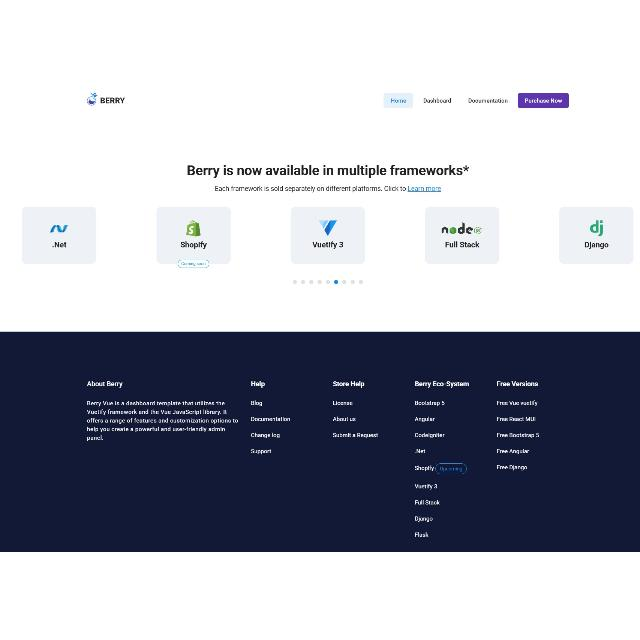QLabel: (85, 401, 238, 442), (186, 165, 470, 178), (214, 185, 406, 192), (413, 382, 469, 388), (332, 433, 378, 439), (444, 241, 478, 249), (496, 448, 530, 456), (496, 433, 540, 439), (312, 241, 344, 249), (333, 381, 365, 389), (496, 382, 538, 388), (496, 401, 538, 407), (468, 98, 508, 104), (496, 416, 536, 422), (407, 185, 441, 192), (525, 98, 563, 104), (180, 242, 207, 250), (86, 382, 122, 388), (584, 242, 608, 250), (414, 433, 446, 439), (495, 466, 527, 472), (414, 401, 444, 407), (423, 97, 451, 103), (252, 434, 280, 440), (251, 418, 291, 422), (414, 500, 440, 506), (100, 98, 124, 104), (414, 485, 438, 491), (250, 450, 272, 456), (332, 400, 352, 406), (414, 466, 434, 472), (390, 97, 408, 103), (414, 517, 432, 523), (51, 242, 67, 248), (181, 262, 205, 266), (413, 532, 429, 538), (333, 418, 355, 422), (440, 468, 462, 472), (251, 382, 265, 388), (414, 418, 434, 422), (252, 401, 262, 407), (414, 450, 426, 454)
VAppBar: (0, 89, 640, 118)
VBtn: (518, 94, 568, 108), (382, 93, 413, 109)
VCard: (558, 206, 634, 266), (156, 206, 232, 264), (22, 207, 96, 266), (291, 207, 365, 265), (425, 207, 499, 265)
VCarousel: (16, 202, 636, 286)
VChip: (436, 464, 466, 474), (178, 260, 210, 268)
VFooter: (0, 332, 640, 552)
VImg: (438, 222, 484, 236), (318, 220, 338, 237), (185, 220, 201, 238), (588, 219, 604, 237), (48, 224, 68, 234), (86, 92, 98, 106)
